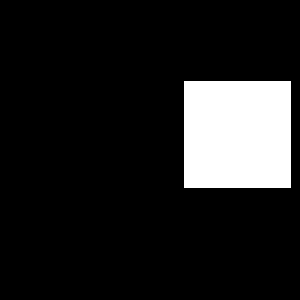circle: (184, 81, 291, 188)
